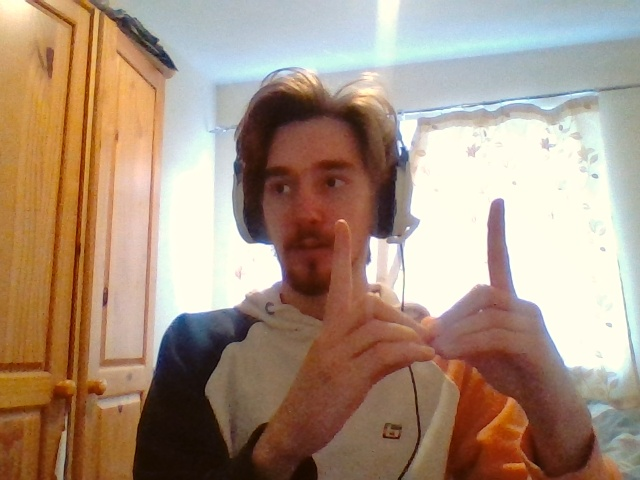meet: (329, 199, 520, 352)
